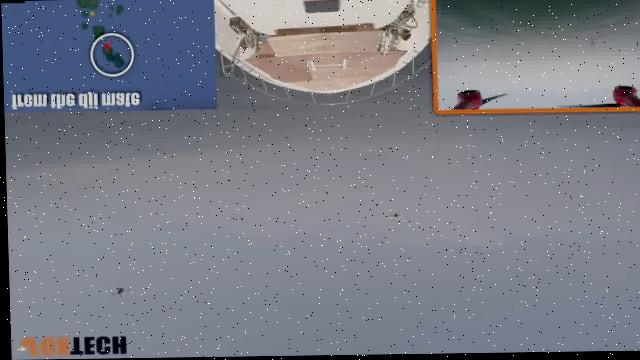drone: (0, 0, 640, 262)
